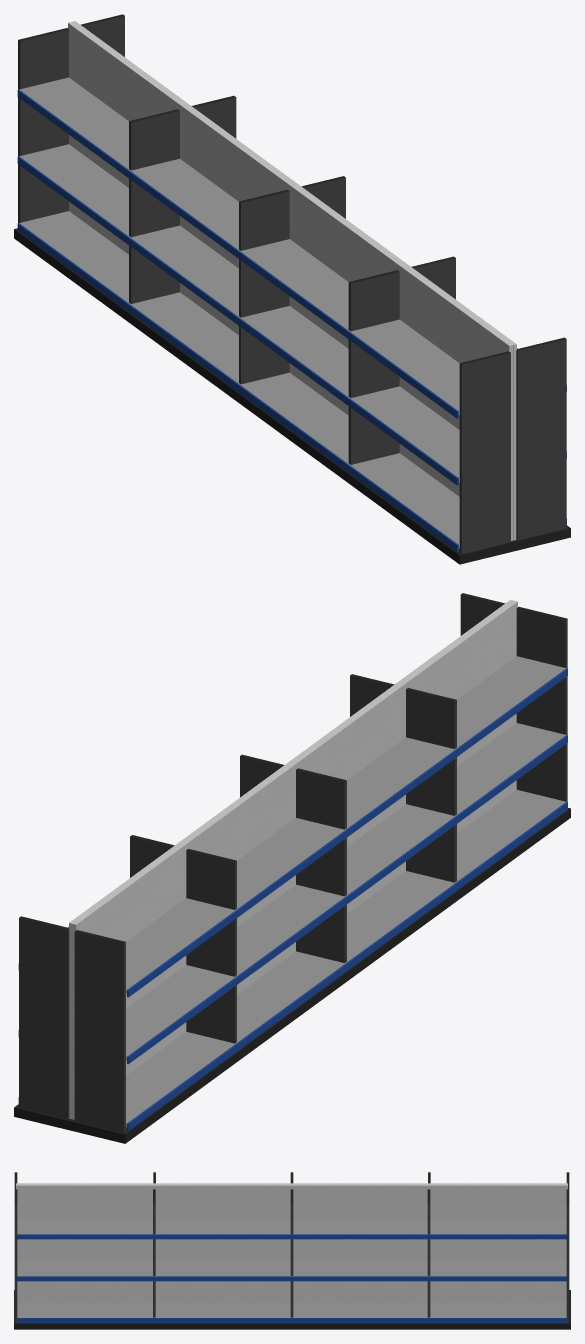
Rendered from huojia1.FBX.
3 views of the same model, one above another, from view 1: azimuth 30°, elevation 25°; view 2: azimuth 150°, elevation 25°; view 3: azimuth 270°, elevation 25° (orthographic). The views are drawn at different scales.
Parts seen in each view (by area): view 1: huojia1; view 2: huojia1; view 3: huojia1.
Part boxes in pixels (bbox=[...]): huojia1: bbox=[14, 14, 570, 564]; huojia1: bbox=[14, 593, 570, 1143]; huojia1: bbox=[14, 1172, 570, 1329].
Size of the model in its own units: 148 by 260 by 1026.
